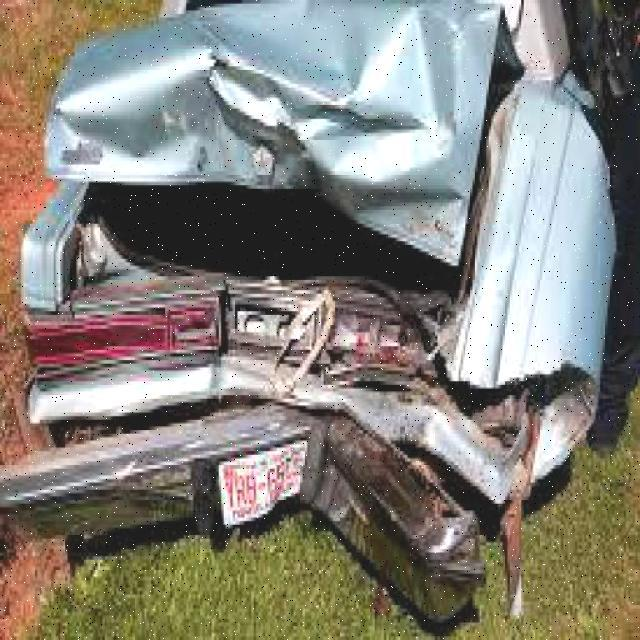car damage: (31, 4, 591, 629)
